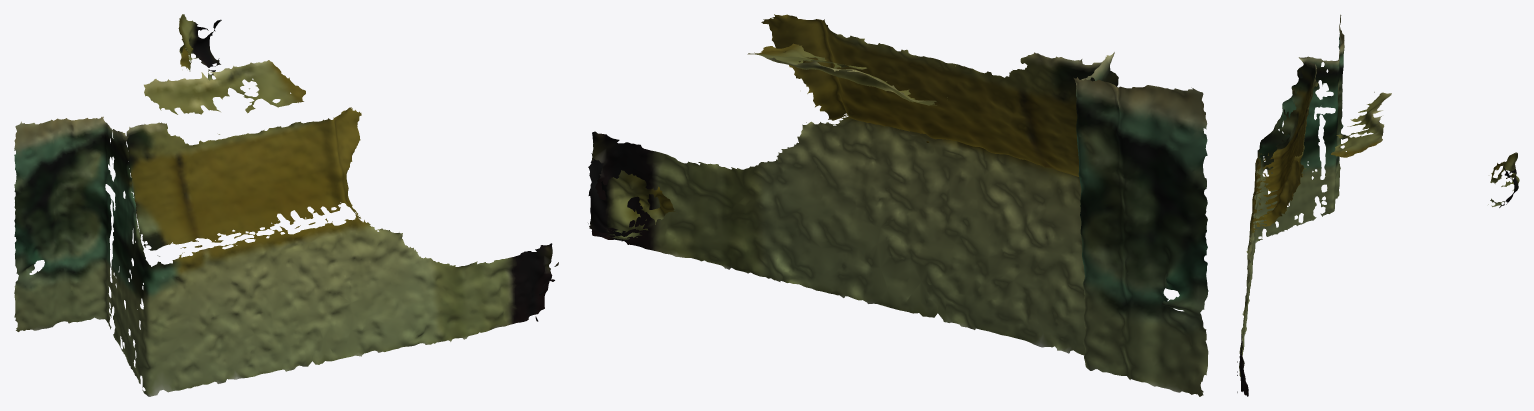
Rendered from color_model_f009_20260211_234503.obj.
The picture shows the model from 3 angles, left to right: view 1: azimuth 30°, elevation 25°; view 2: azimuth 150°, elevation 25°; view 3: azimuth 270°, elevation 25°; orthographic projection. The views are drawn at different scales.
Bounding box in the file's own units: 2.16 × 1.13 × 1.39.
